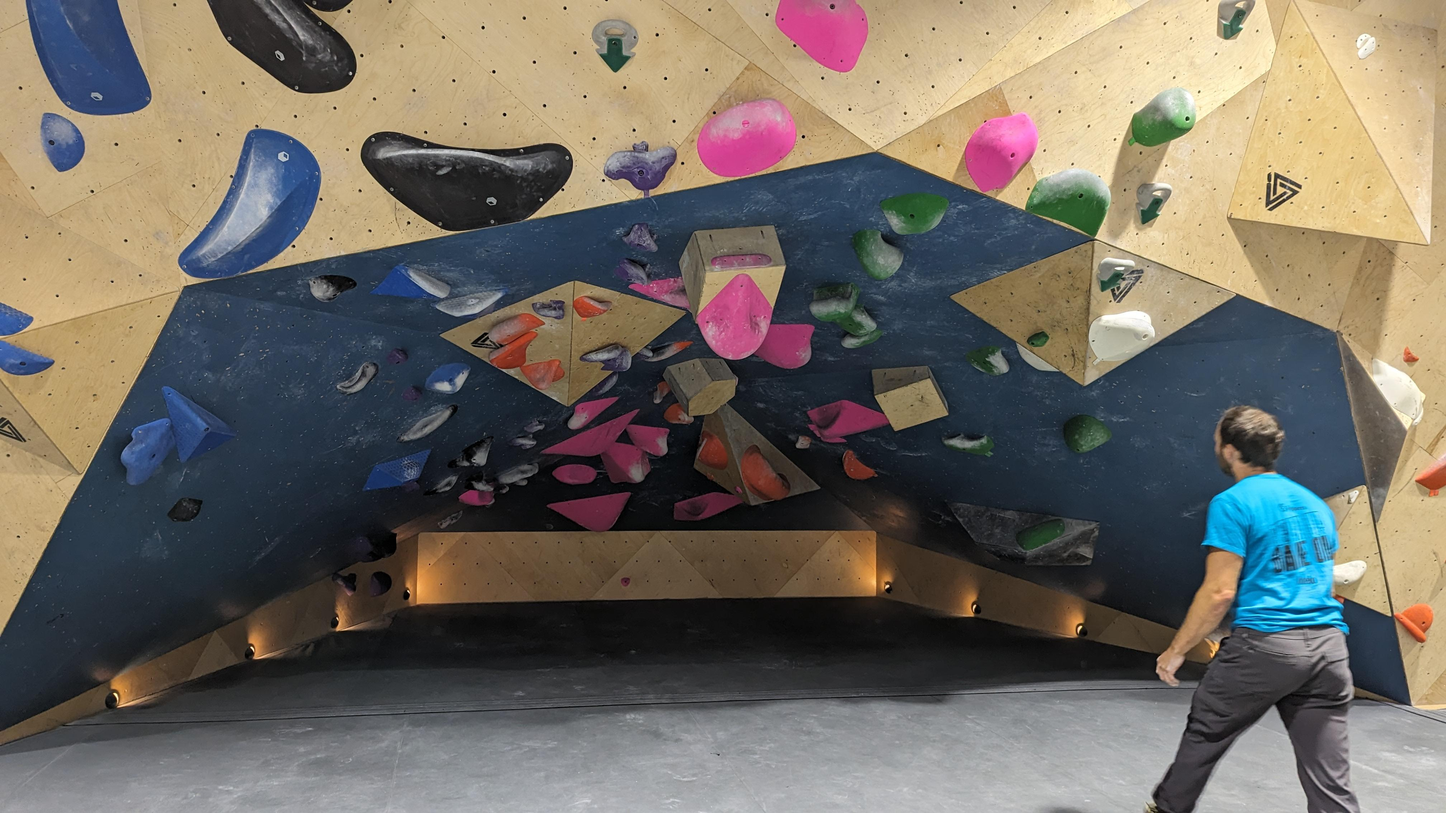black-hold: (172, 116, 341, 314), (355, 129, 575, 240), (194, 0, 372, 119), (17, 0, 157, 138), (686, 87, 807, 192), (948, 96, 1052, 201), (686, 269, 790, 373), (147, 366, 239, 465), (539, 398, 650, 480), (1023, 154, 1119, 239), (1121, 78, 1208, 160), (104, 407, 188, 490), (775, 0, 869, 73), (599, 121, 681, 204), (1360, 349, 1434, 426), (26, 102, 95, 176), (841, 218, 910, 287), (727, 442, 794, 513), (355, 445, 440, 500), (580, 7, 648, 75), (806, 390, 890, 443), (545, 492, 635, 537), (1086, 308, 1158, 364), (393, 398, 463, 453), (879, 190, 952, 237), (752, 318, 815, 372), (1056, 404, 1114, 462), (368, 262, 453, 301), (598, 433, 654, 492), (486, 326, 548, 379), (804, 276, 867, 327), (561, 381, 620, 435), (670, 486, 746, 526), (626, 266, 696, 309), (429, 287, 513, 322), (1391, 592, 1445, 646), (485, 304, 546, 350), (423, 350, 473, 404), (0, 339, 55, 387), (442, 435, 502, 477), (344, 526, 402, 568), (333, 356, 385, 402), (832, 299, 880, 347), (1013, 513, 1069, 554), (307, 267, 360, 307), (1091, 250, 1140, 293), (964, 340, 1011, 384), (1009, 342, 1060, 381), (519, 355, 568, 395), (165, 488, 208, 531), (834, 447, 876, 489), (643, 335, 695, 368), (620, 217, 664, 255), (1410, 452, 1446, 498), (695, 429, 734, 471), (1135, 183, 1172, 225), (623, 424, 670, 457), (579, 343, 632, 372), (1218, 0, 1256, 40), (940, 430, 996, 456), (612, 256, 656, 287), (1329, 557, 1371, 588), (804, 422, 848, 451), (422, 472, 463, 503), (570, 294, 612, 324), (550, 462, 598, 487), (0, 302, 34, 336), (661, 400, 695, 434), (839, 327, 885, 351), (710, 253, 772, 270), (591, 369, 623, 399), (531, 298, 566, 320), (1355, 35, 1382, 63), (647, 379, 673, 406), (464, 470, 495, 492), (436, 509, 466, 531), (507, 433, 538, 454), (385, 346, 411, 371), (1025, 328, 1052, 352), (522, 414, 547, 439), (331, 572, 357, 596), (302, 0, 353, 12), (458, 490, 495, 506), (370, 571, 392, 597), (1398, 346, 1420, 368), (629, 345, 654, 364), (1352, 30, 1372, 50), (400, 479, 422, 495), (1411, 405, 1426, 428), (794, 434, 812, 452), (403, 387, 422, 401), (1347, 489, 1360, 506), (620, 576, 632, 587), (732, 485, 744, 495), (705, 472, 715, 481)
